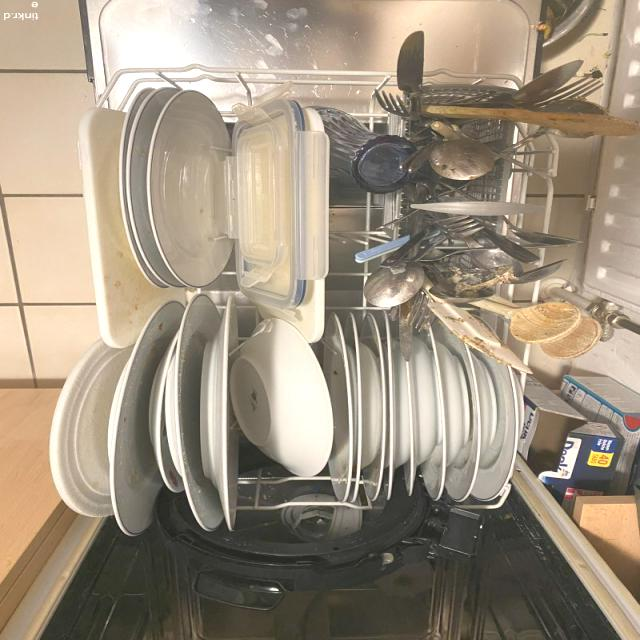clutery_bin: (356, 53, 599, 373)
